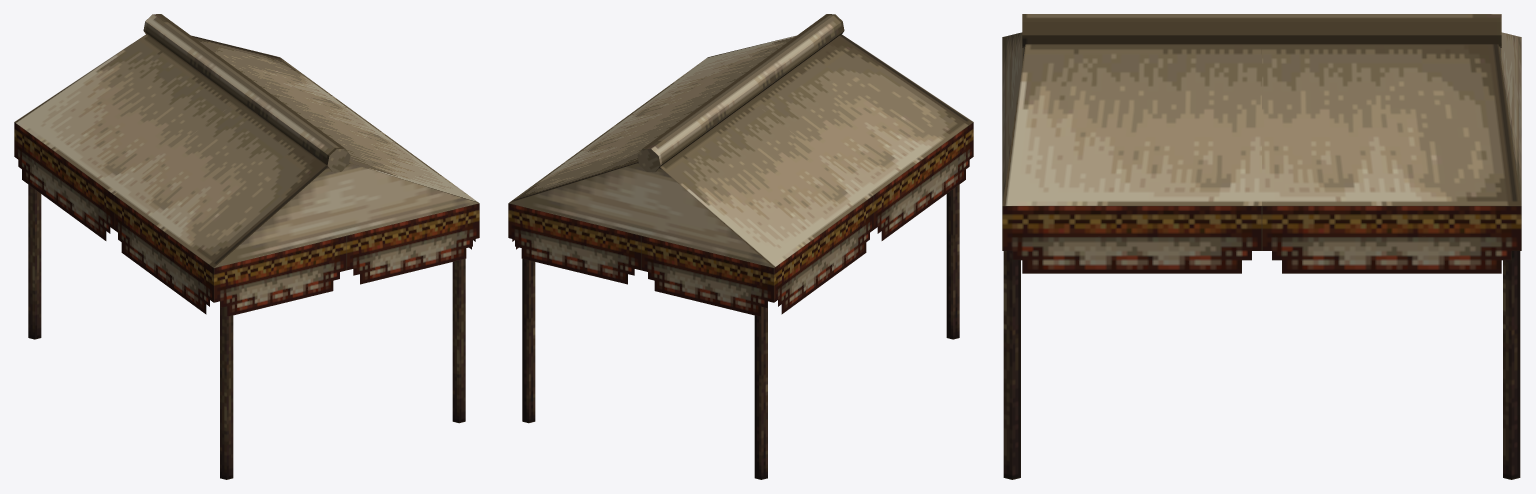
The model's file is EnvBdgMD_Desert_C_Outdoor_Tent_B.FBX.
The picture shows the model from 3 angles, left to right: view 1: azimuth 30°, elevation 25°; view 2: azimuth 150°, elevation 25°; view 3: azimuth 270°, elevation 25°; orthographic projection. The views are drawn at different scales.
Parts seen in each view (by area): view 1: EnvBdgMD_Desert_C_Outdoor_Tent_B; view 2: EnvBdgMD_Desert_C_Outdoor_Tent_B; view 3: EnvBdgMD_Desert_C_Outdoor_Tent_B.
Boxes of the visible parts, box(x1,y1,x2,y2) form: EnvBdgMD_Desert_C_Outdoor_Tent_B: box(14, 14, 479, 479); EnvBdgMD_Desert_C_Outdoor_Tent_B: box(508, 14, 973, 479); EnvBdgMD_Desert_C_Outdoor_Tent_B: box(1002, 14, 1521, 479).
Size of the model in its own units: 400 by 427 by 520.
